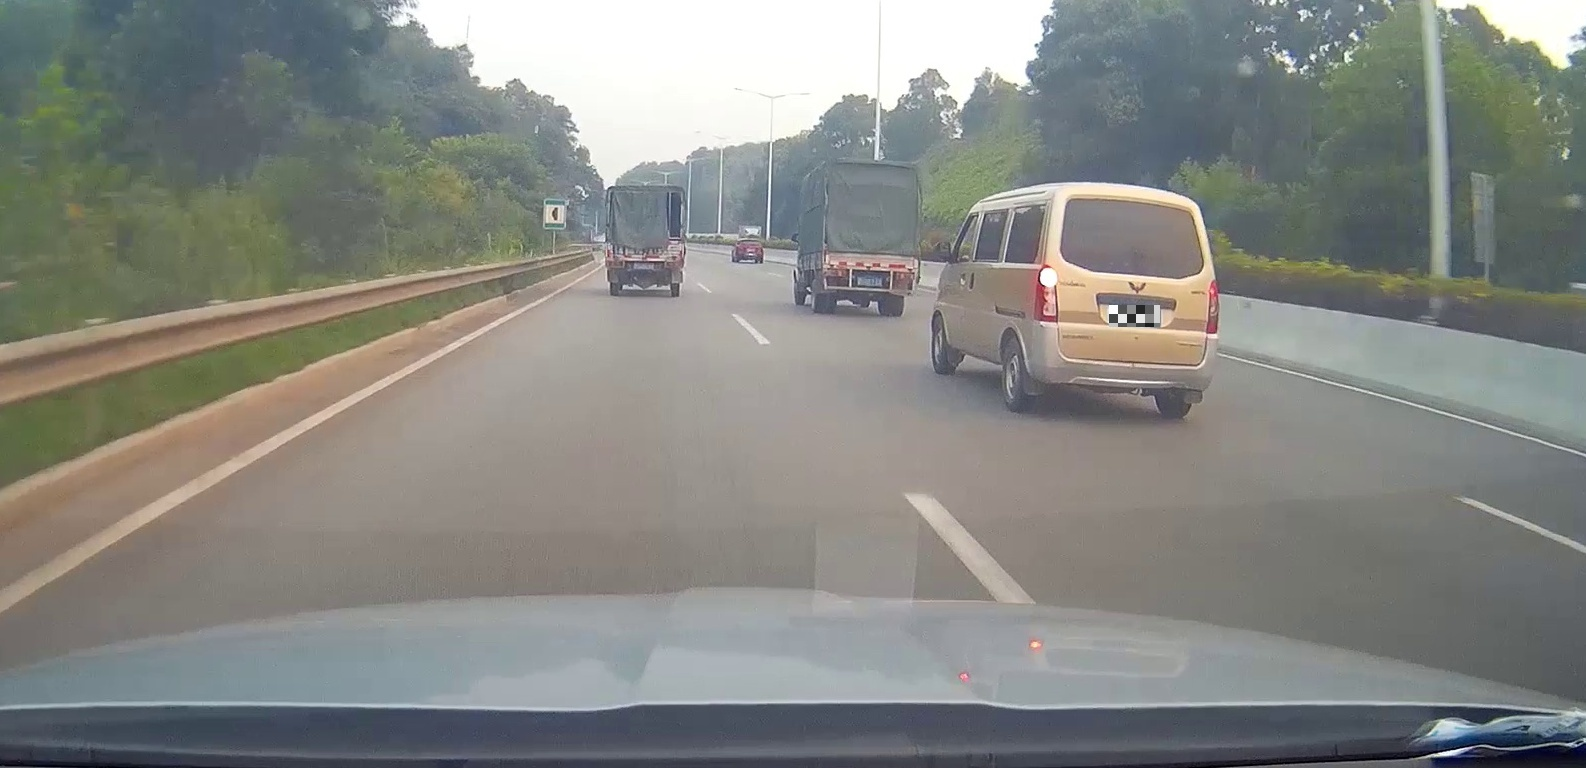L_light: (1033, 265, 1058, 322), (831, 270, 846, 276), (611, 262, 622, 265)
R_light: (1206, 280, 1217, 334), (899, 272, 913, 279), (669, 262, 680, 267)
T_light: (1121, 202, 1147, 208), (869, 251, 883, 254), (641, 242, 653, 245)
day-left: (1033, 183, 1219, 419)
day-no: (821, 159, 921, 316), (605, 185, 686, 296)
plate_1: (1109, 305, 1160, 327)
